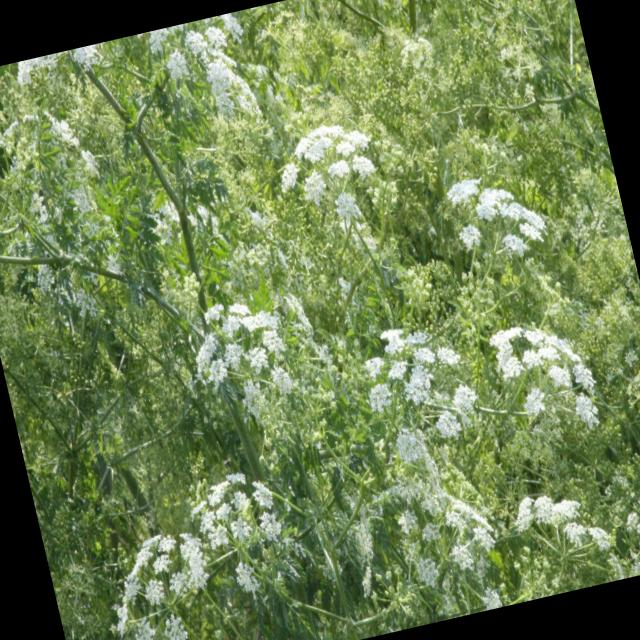Poisonous-Hemlock: (149, 84, 615, 482), (101, 385, 640, 640), (72, 0, 345, 186)
